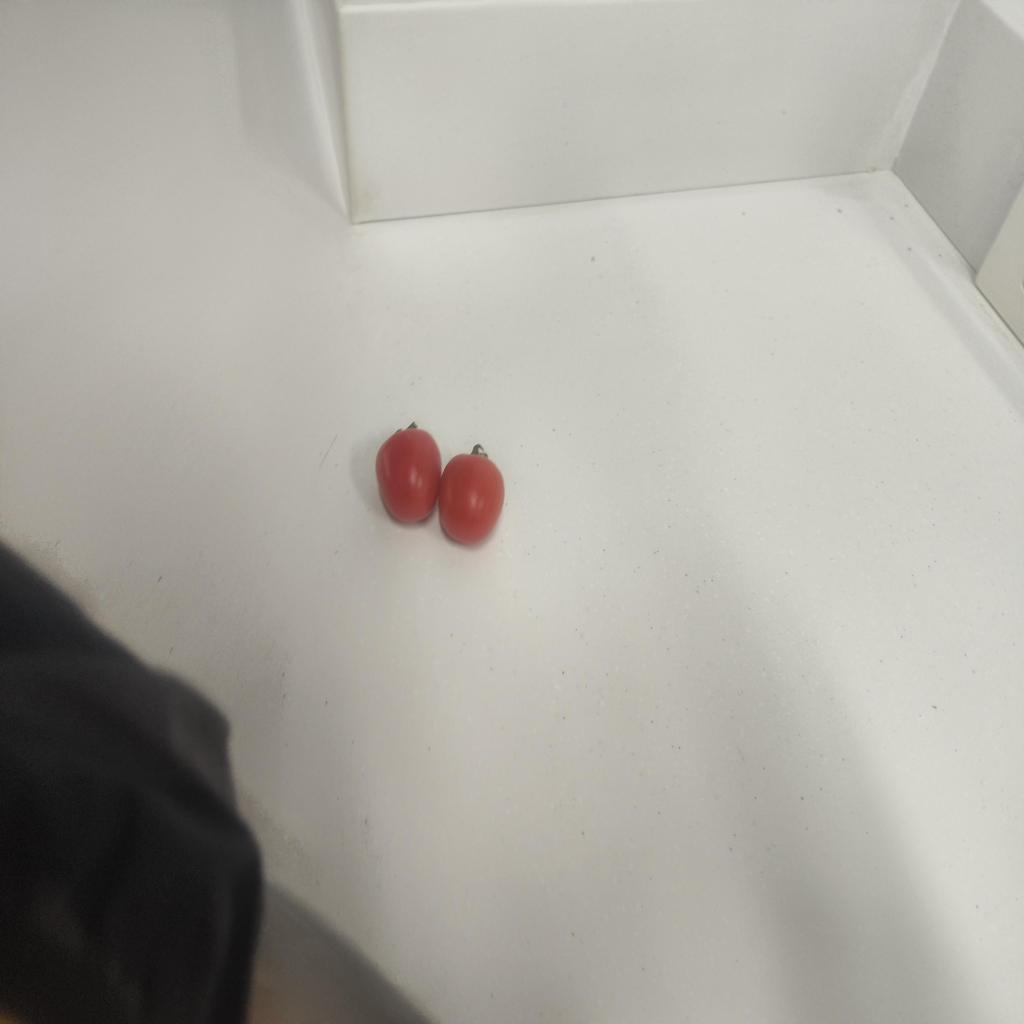tomato: (432, 445, 520, 545), (369, 423, 440, 523)
